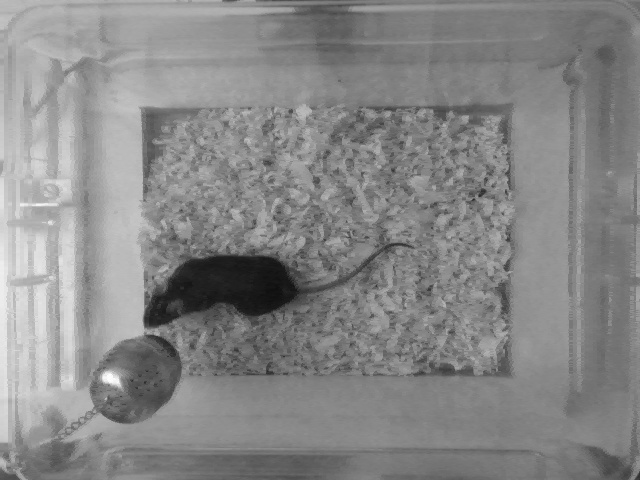mice: (138, 221, 414, 334)
